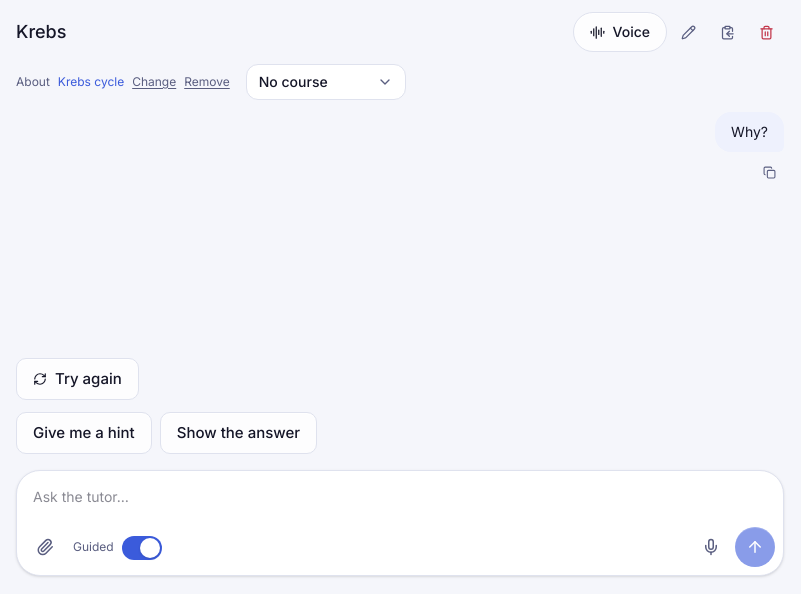
Test case: ChatView › a refused hint or answer request leaves the typed draft alone
This screenshot has width=801, height=594.
In the text box named "Message": (404, 501) [33, 479, 775, 523], type "my half-typed question"
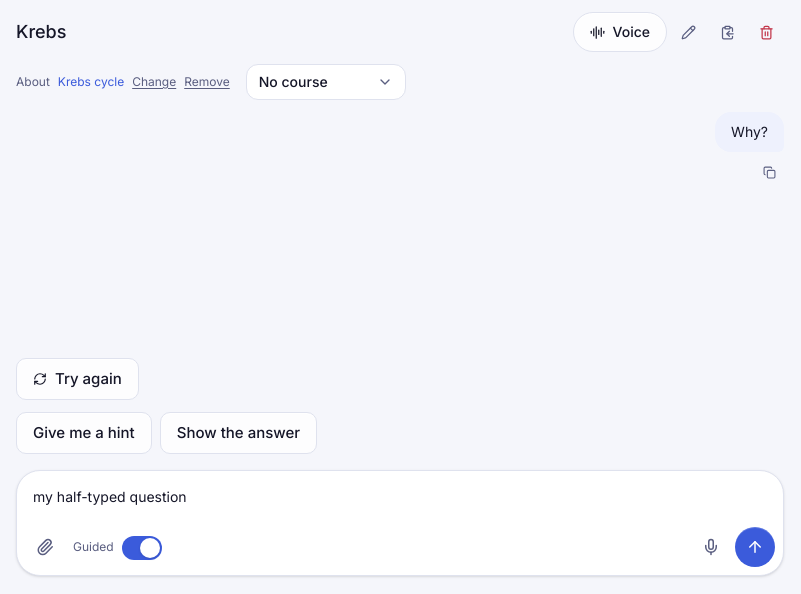
Click the button "Give me a hint": (84, 433) [16, 412, 152, 454]
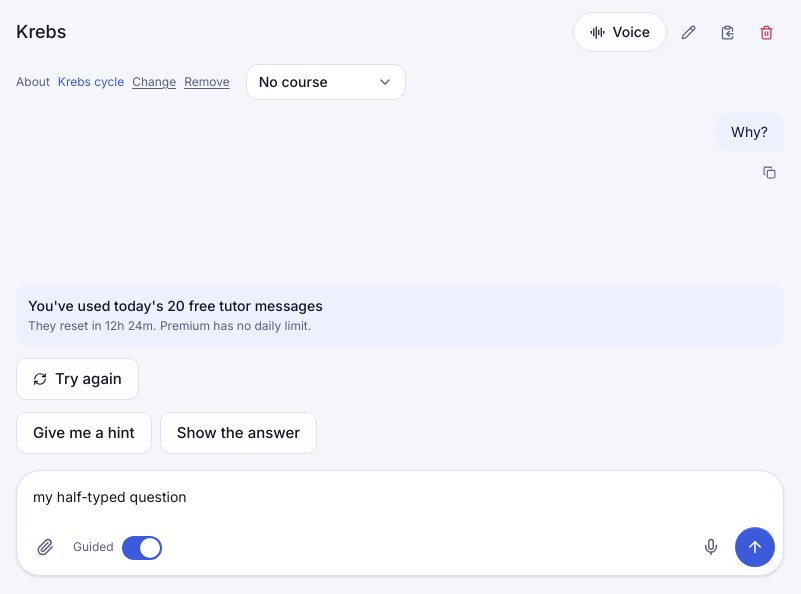
Now the text "You've used today's 20 free tutor messages" is shown, box [28, 297, 323, 314]
